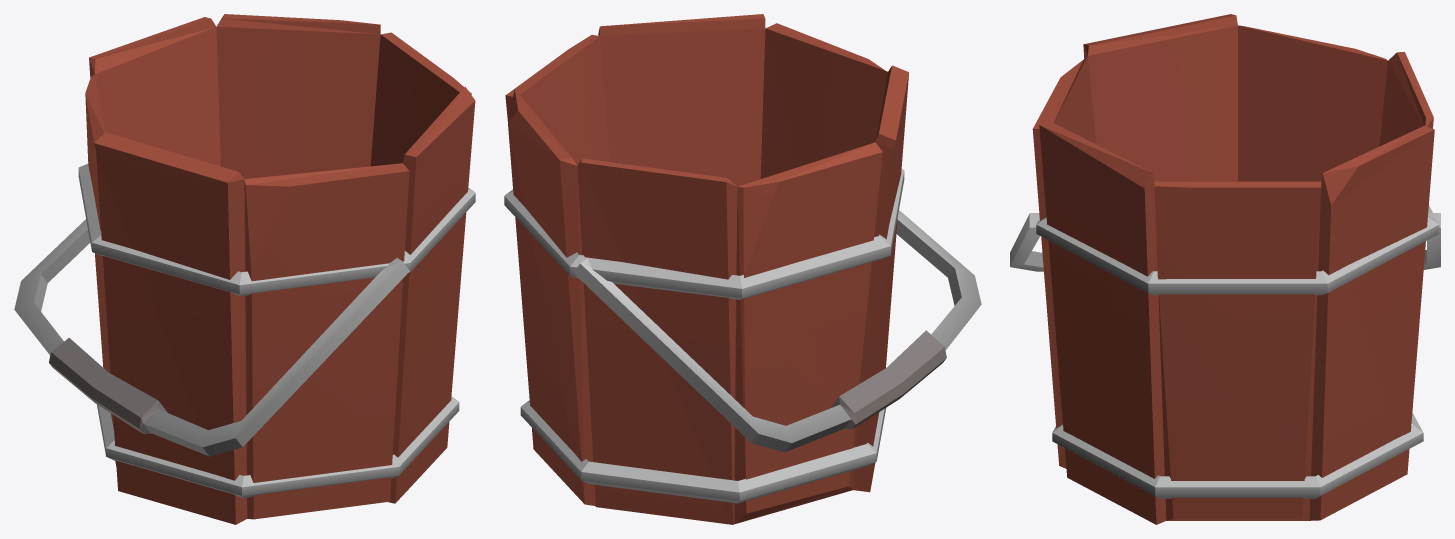
File: bucket2.glb
The picture shows the model from 3 angles, left to right: view 1: azimuth 30°, elevation 25°; view 2: azimuth 150°, elevation 25°; view 3: azimuth 270°, elevation 25°; orthographic projection.
Visible parts, largest first — view 1: Bucket2; view 2: Bucket2; view 3: Bucket2.
Part boxes in pixels (bbox=[...]): Bucket2: bbox=[14, 14, 475, 524]; Bucket2: bbox=[504, 14, 981, 524]; Bucket2: bbox=[1010, 14, 1440, 524].
Size of the model in its own units: 0.4114 by 0.4071 by 0.4397.
Materials: 1 (1 with a texture image).
